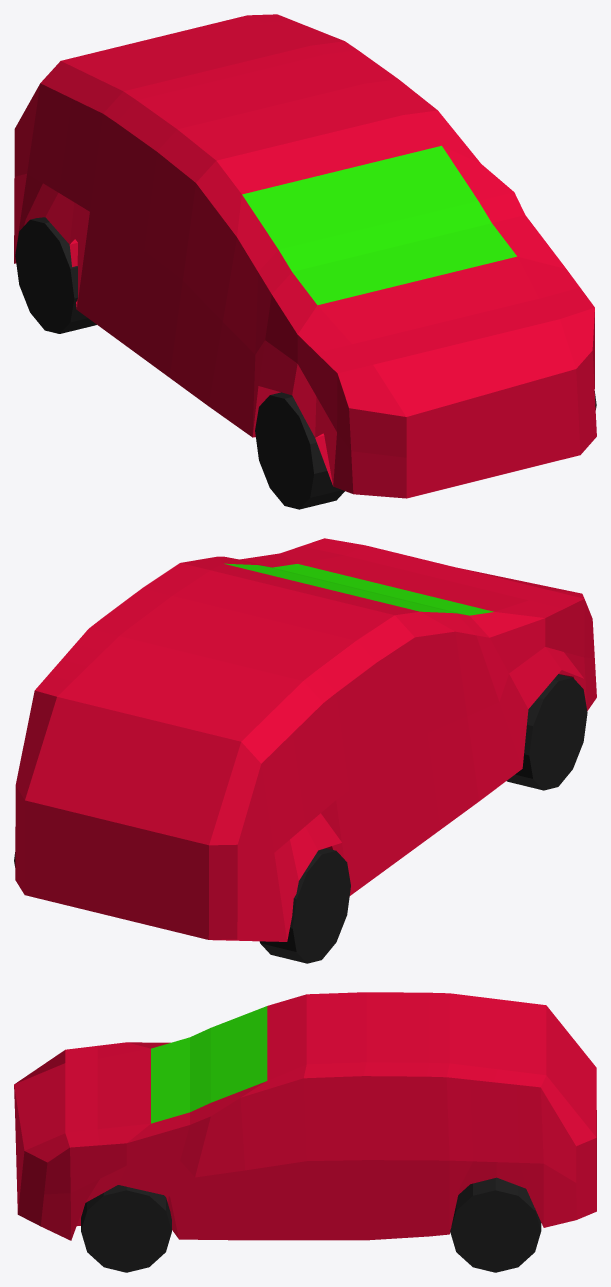
Rendered from shitBoxCar1.fbx.
The picture shows the model from 3 angles, top to bottom: view 1: azimuth 30°, elevation 25°; view 2: azimuth 150°, elevation 25°; view 3: azimuth 270°, elevation 25°; orthographic projection. The views are drawn at different scales.
Parts seen in each view (by area): view 1: Karosserie, Rad_vorne_rechts, Rad_hinten_rechts; view 2: Karosserie, Rad_vorne_rechts, Rad_hinten_rechts; view 3: Karosserie, Rad_hinten_links, Rad_vorne_links.
Boxes of the visible parts, <box> form: Karosserie: <box>14,14,596,498</box>; Rad_vorne_rechts: <box>255,392,344,509</box>; Rad_hinten_rechts: <box>15,217,96,333</box>; Karosserie: <box>15,538,596,941</box>; Rad_vorne_rechts: <box>507,674,587,790</box>; Rad_hinten_rechts: <box>259,848,350,963</box>; Karosserie: <box>14,992,596,1240</box>; Rad_hinten_links: <box>450,1177,541,1272</box>; Rad_vorne_links: <box>81,1185,171,1272</box>.
Size of the model in its own units: 19.46 by 16.37 by 44.86.
